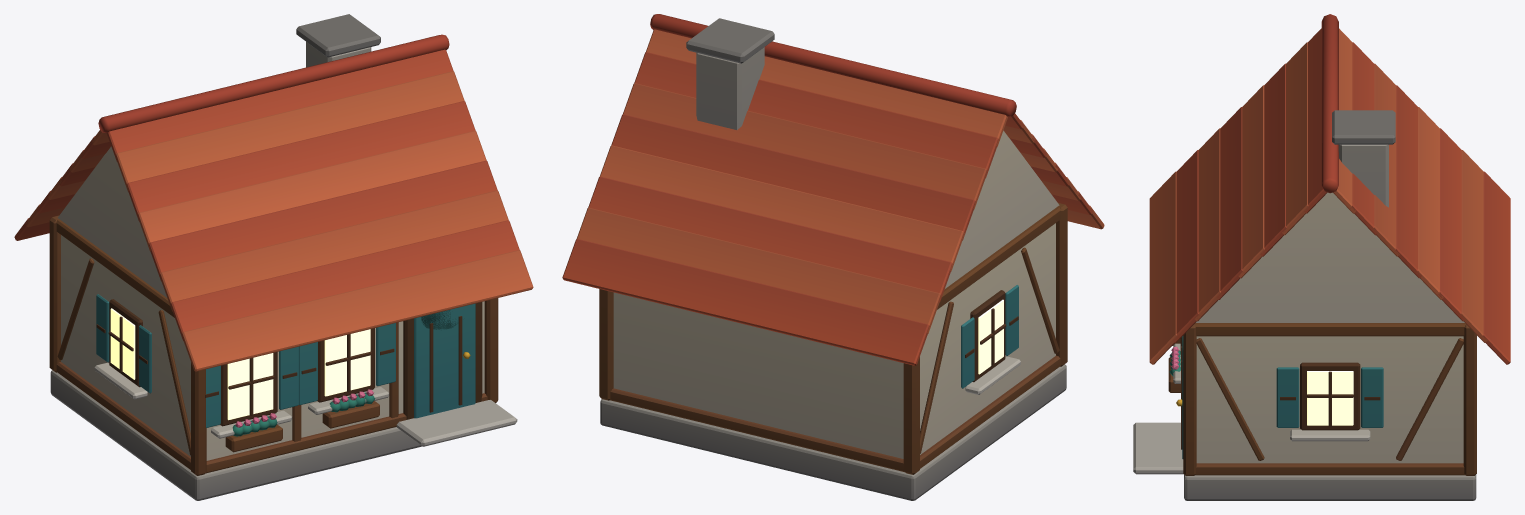
File: cottage_a.glb
The picture shows the model from 3 angles, left to right: view 1: azimuth 30°, elevation 25°; view 2: azimuth 150°, elevation 25°; view 3: azimuth 270°, elevation 25°; orthographic projection. The views are drawn at different scales.
Parts seen in each view (by area): view 1: cottage_a; view 2: cottage_a; view 3: cottage_a.
Part boxes in pixels (left/top/right/bottom): cottage_a: left=14, top=14, right=533, bottom=500; cottage_a: left=562, top=14, right=1104, bottom=500; cottage_a: left=1133, top=14, right=1510, bottom=500.
Size of the model in its own units: 5.9 by 5.72 by 5.65.
